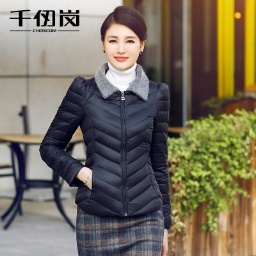face: (100, 5, 147, 71)
